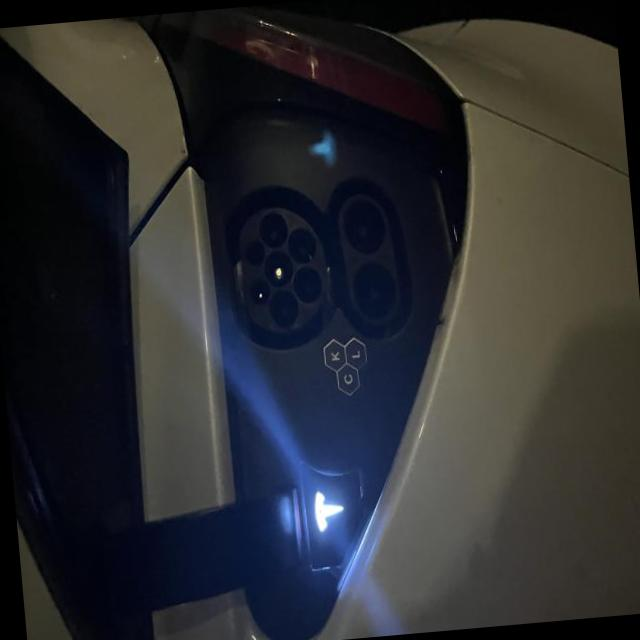inlet: (239, 206, 327, 332)
inlet-above-left: (249, 278, 270, 304)
inlet-above-right: (244, 237, 264, 265)
inlet-below-left: (292, 263, 322, 303)
inlet-below-right: (287, 227, 316, 262)
inlet-center: (264, 250, 293, 287)
inlet-center-left: (269, 288, 299, 326)
inlet-center-right: (258, 211, 288, 248)
